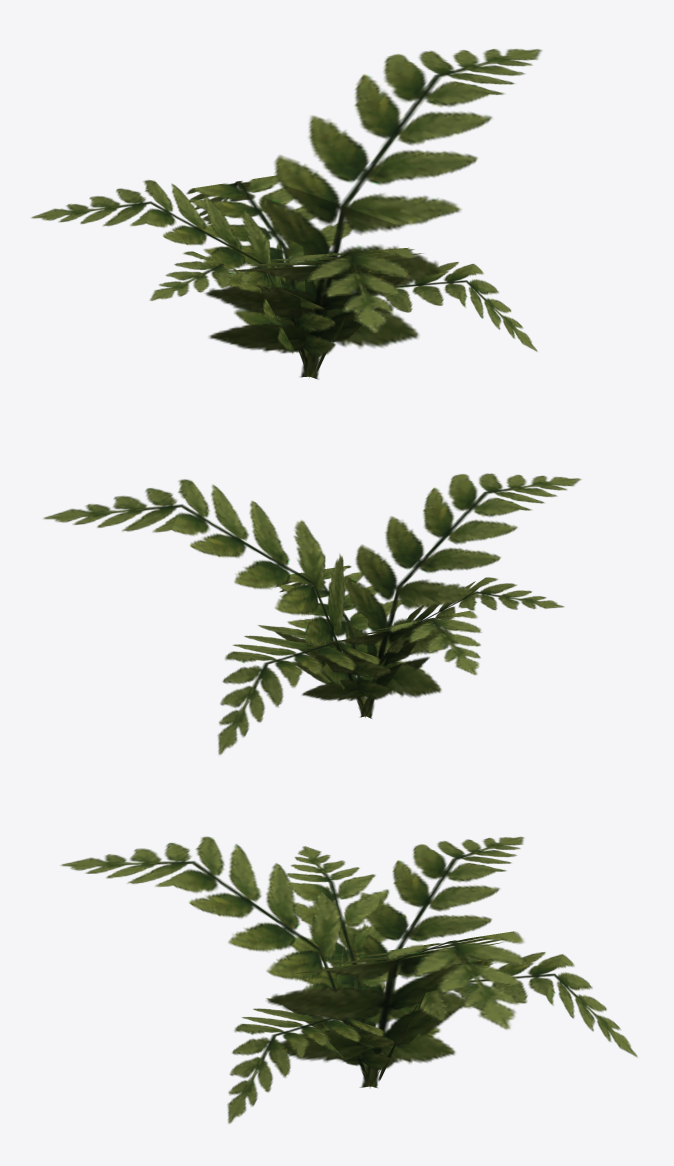
Rendered from lp_bush_a.glb.
3 views of the same model, one above another, from view 1: azimuth 30°, elevation 25°; view 2: azimuth 150°, elevation 25°; view 3: azimuth 270°, elevation 25° (orthographic). The views are drawn at different scales.
Parts seen in each view (by area): view 1: lp_bush_a; view 2: lp_bush_a; view 3: lp_bush_a.
Part boxes in pixels (x1,y1,x2,y2): lp_bush_a: (31, 49, 541, 379); lp_bush_a: (43, 473, 581, 754); lp_bush_a: (61, 836, 637, 1123).
Size of the model in its own units: 1.27 by 0.4563 by 1.17.
1 material, 1 textured.
